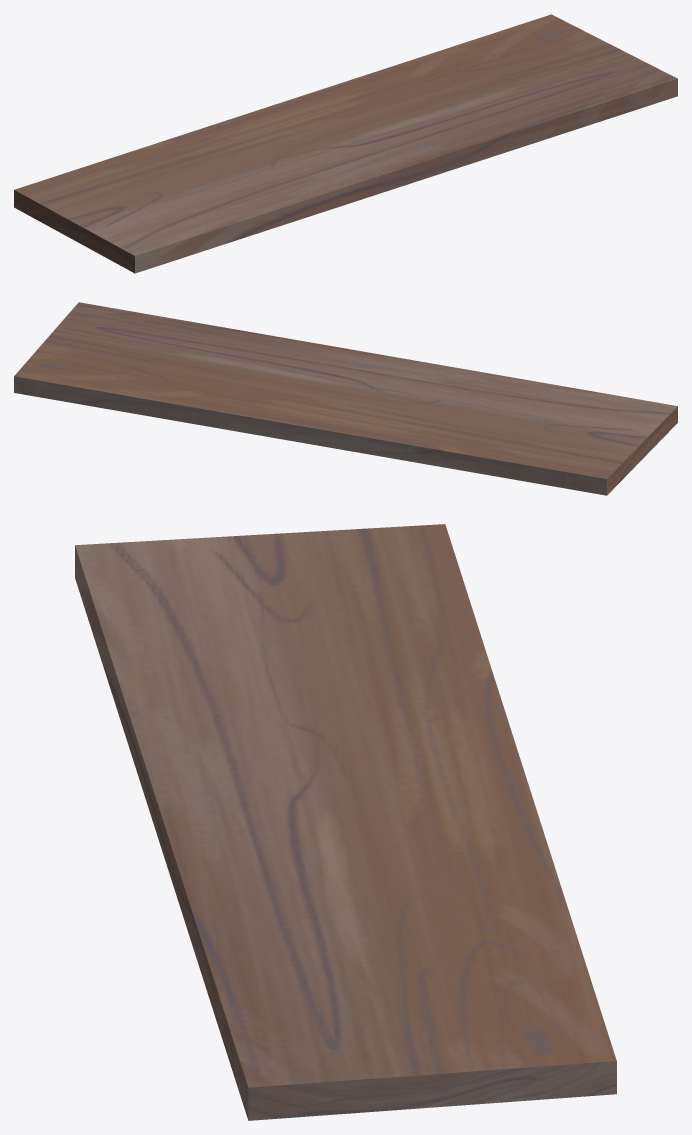
File: plank_051.fbx
3 renders of one model, top to bottom at view 1: azimuth 30°, elevation 25°; view 2: azimuth 150°, elevation 25°; view 3: azimuth 270°, elevation 25°, orthographic. The views are drawn at different scales.
Parts seen in each view (by area): view 1: plank.051; view 2: plank.051; view 3: plank.051.
Part boxes in pixels (x1,y1,x2,y2): plank.051: (14,14,677,273); plank.051: (14,302,677,495); plank.051: (75,524,616,1120).
Bounding box in the file's own units: 36.27 × 0.9957 × 14.73.
